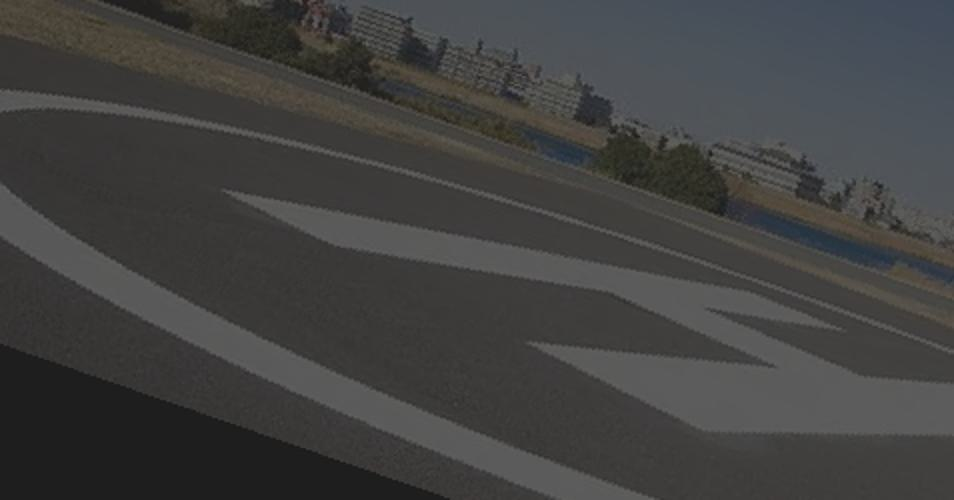Apron: (2, 61, 954, 500)
